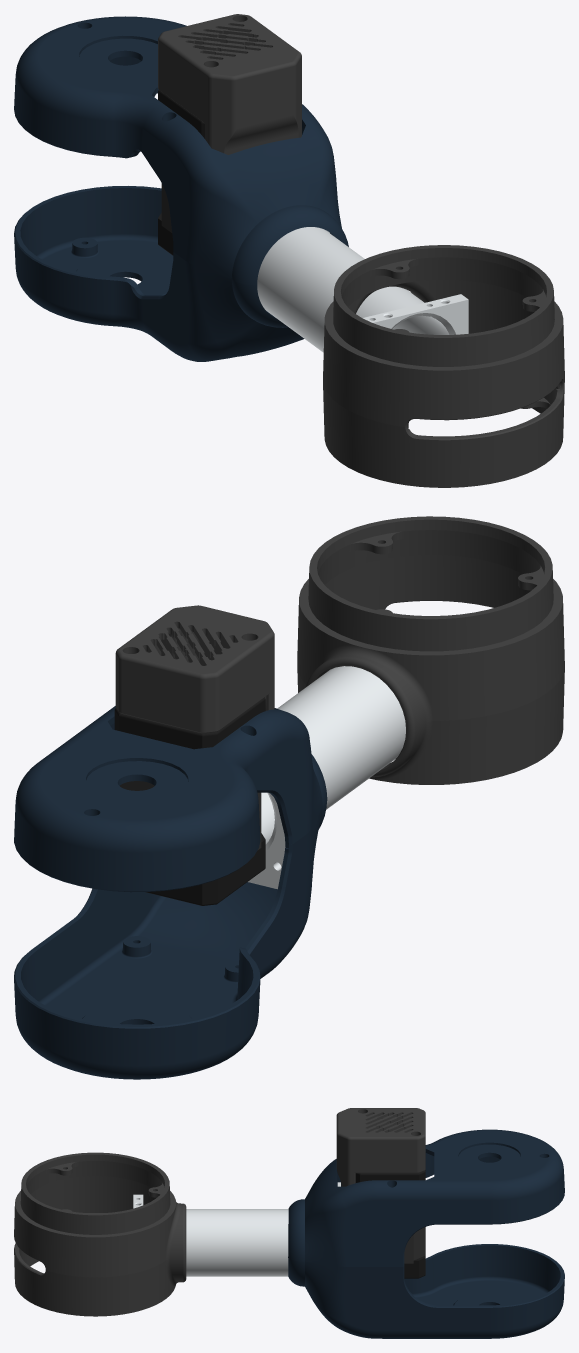
The model's file is arm_link.dae.
3 views of the same model, one above another, from view 1: azimuth 30°, elevation 25°; view 2: azimuth 150°, elevation 25°; view 3: azimuth 270°, elevation 25° (orthographic). The views are drawn at different scales.
Visible parts, largest first — view 1: Body_4, Body_1, Body_5, Body_9, Body_2, Body_3; view 2: Body_5, Body_1, Body_4, Body_9, Body_3, Body_2, Body_8, _3DGeom-508; view 3: Body_4, Body_5, Body_1, Body_3, Body_2, Body_9, Body_8, Body_6, _3DGeom-508.
Boxes of the visible parts, x1,y1,x2,y2 form: Body_4: (14,16,348,285); Body_1: (323,245,564,428); Body_5: (14,186,304,361); Body_9: (158,14,301,154); Body_2: (323,380,564,487); Body_3: (257,227,468,352); Body_5: (14,800,327,1079); Body_1: (297,516,564,731); Body_4: (14,706,327,892); Body_9: (115,605,274,733); Body_3: (248,666,405,889); Body_2: (297,667,564,784); Body_8: (114,697,265,749); _3DGeom-508: (145,833,265,905); Body_4: (288,1129,564,1266); Body_5: (288,1244,564,1338); Body_1: (14,1152,186,1277); Body_3: (133,1182,340,1276); Body_2: (14,1213,186,1316); Body_9: (336,1108,425,1186); Body_8: (355,1170,425,1182); Body_6: (404,1227,425,1263); _3DGeom-508: (404,1255,425,1278).
Bounding box in the file's own units: 0.1037 × 0.3219 × 0.128.
